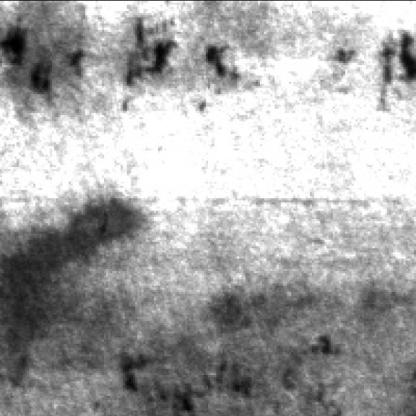inclusion: (117, 343, 256, 406)
patches: (8, 198, 154, 372)
